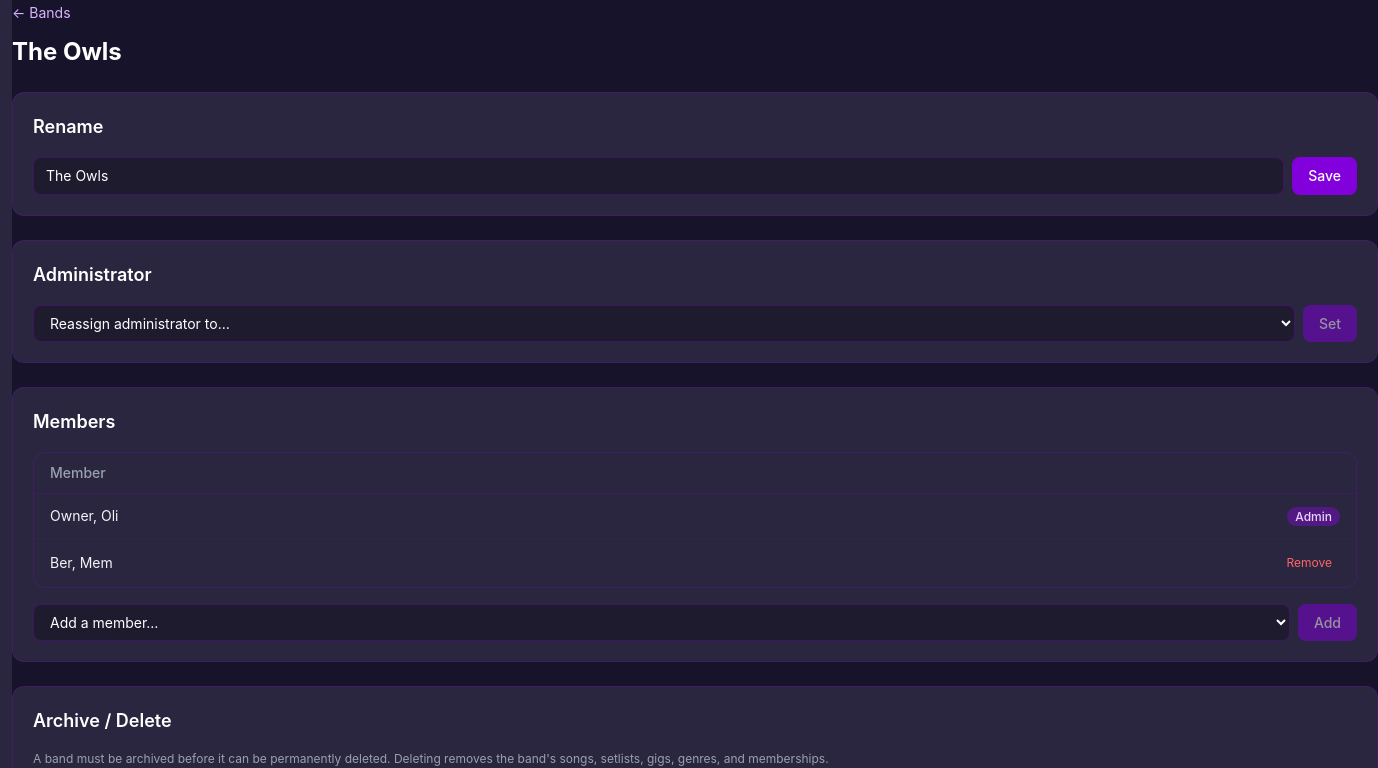
BandDetailPage actions › shows a friendly message when renaming to a duplicate band name (409)
The image size is (1378, 768).
Replace the text in the field named "Band name" with "Taken Name" at (659, 176), box x1=33 y1=157 x2=1284 y2=195
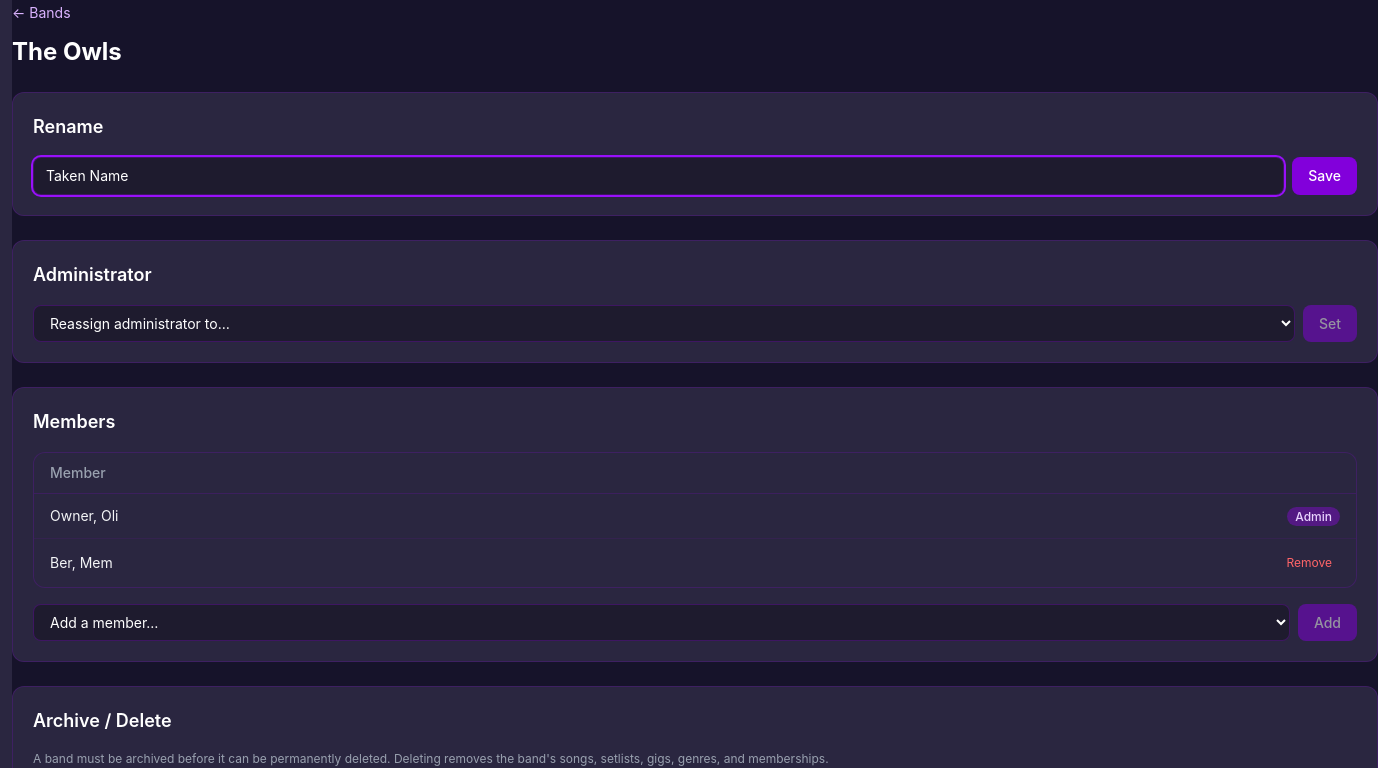
Click the button "Save" at (1325, 176), box x1=1292 y1=157 x2=1357 y2=195
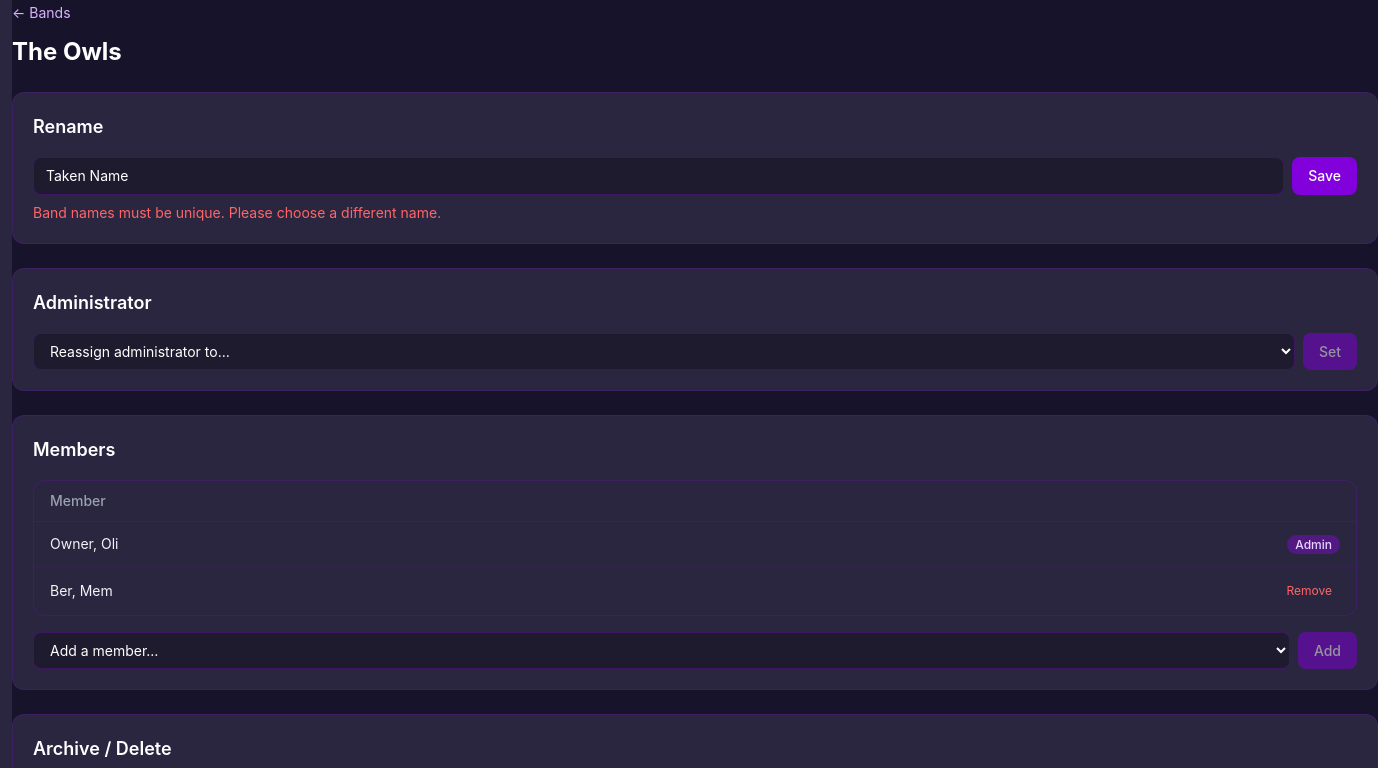
Now the text "Band names must be unique. Please choose a different name." is shown, box x1=33 y1=204 x2=441 y2=221
